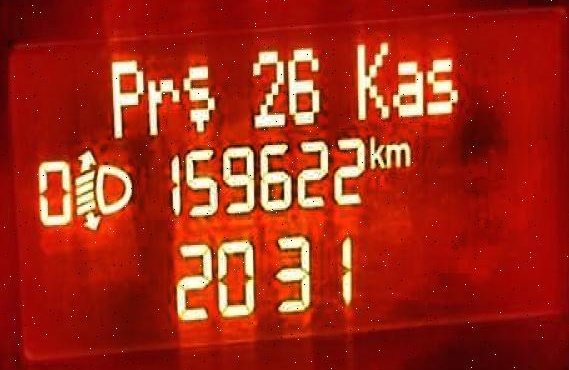0: (215, 238, 254, 316), (36, 158, 71, 226)
1: (339, 233, 351, 306), (167, 153, 180, 216)
2: (174, 241, 211, 320), (251, 48, 285, 128), (331, 136, 364, 205), (295, 138, 328, 206)
3: (271, 233, 310, 311)
5: (184, 146, 218, 216)
6: (285, 44, 319, 123), (258, 141, 292, 211)
9: (220, 145, 254, 211)
X: (108, 56, 143, 138), (355, 40, 389, 120), (181, 63, 215, 131), (146, 76, 179, 136), (425, 56, 458, 113), (392, 60, 423, 116), (384, 141, 410, 166), (368, 134, 384, 168)
